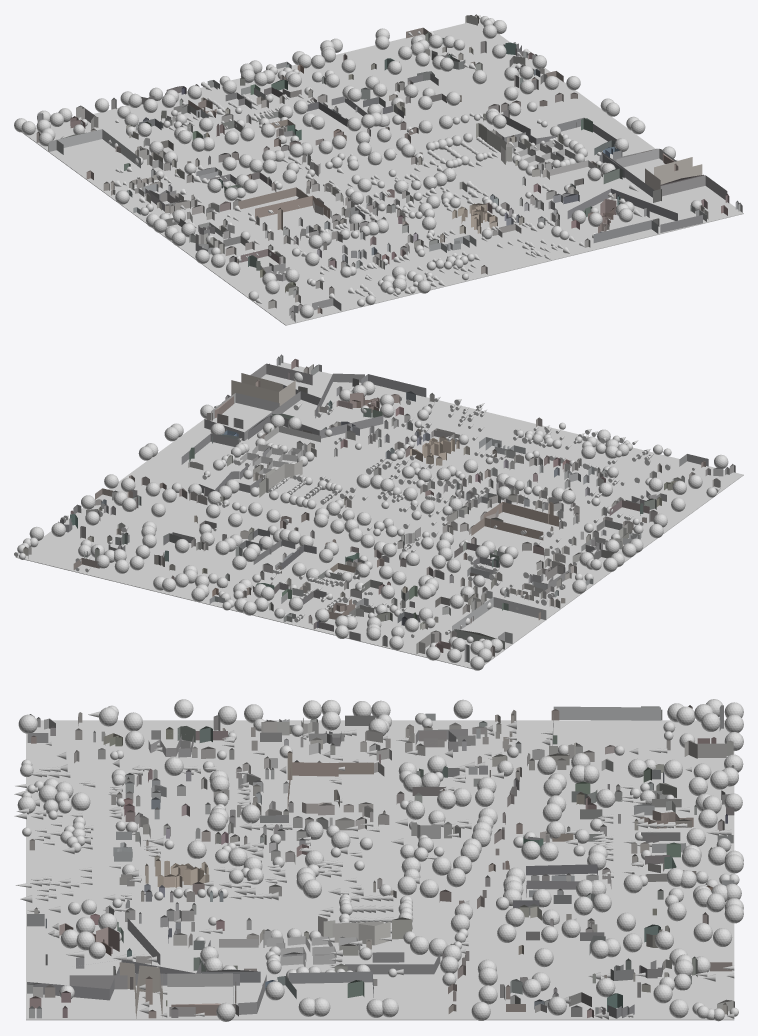
The model's file is scene_979ab398-8228-41a6-b08b-fdfeb67a9c48.glb.
The picture shows the model from 3 angles, top to bottom: view 1: azimuth 30°, elevation 25°; view 2: azimuth 150°, elevation 25°; view 3: azimuth 270°, elevation 25°; orthographic projection. The views are drawn at different scales.
Visible parts, largest first — view 1: Ground_Base, BLD-276, BLD-266, BLD-061, BLD-261, BLD-247, BLD-252, BLD-251; view 2: Ground_Base, BLD-276, BLD-266, BLD-061, BLD-247, BLD-251, BLD-252, BLD-261, BLD-226, BLD-278, BLD-287; view 3: Ground_Base, BLD-276, BLD-061, BLD-226, BLD-219, BLD-266, BLD-293, BLD-278, BLD-261, BLD-247, BLD-097, BLD-287 (+2 smaller).
Part boxes in pixels (x1,y1,x2,y2): Ground_Base: (22, 20, 743, 325); BLD-276: (567, 188, 702, 232); BLD-266: (645, 157, 702, 190); BLD-061: (57, 129, 140, 168); BLD-261: (660, 175, 727, 199); BLD-247: (255, 195, 329, 218); BLD-252: (593, 220, 658, 242); BLD-251: (238, 187, 308, 209); Ground_Base: (15, 362, 743, 669); BLD-276: (272, 373, 383, 438); BLD-266: (231, 373, 295, 405); BLD-061: (452, 597, 546, 630); BLD-247: (483, 502, 558, 526); BLD-251: (471, 517, 543, 540); BLD-252: (361, 374, 426, 397); BLD-261: (250, 363, 312, 385); BLD-226: (265, 460, 302, 489); BLD-278: (211, 393, 279, 420); BLD-287: (204, 391, 300, 440); Ground_Base: (26, 720, 734, 1020); BLD-276: (27, 918, 210, 1000); BLD-061: (552, 706, 660, 745); BLD-226: (318, 916, 390, 945); BLD-219: (345, 952, 440, 974); BLD-266: (119, 962, 162, 1018); BLD-293: (289, 971, 373, 997); BLD-278: (167, 973, 233, 1003); BLD-261: (69, 975, 127, 989); BLD-247: (287, 762, 338, 809); BLD-097: (526, 864, 597, 875); BLD-287: (117, 973, 266, 1014).
Bounding box in the file's own units: 368 × 19.8 × 369.
